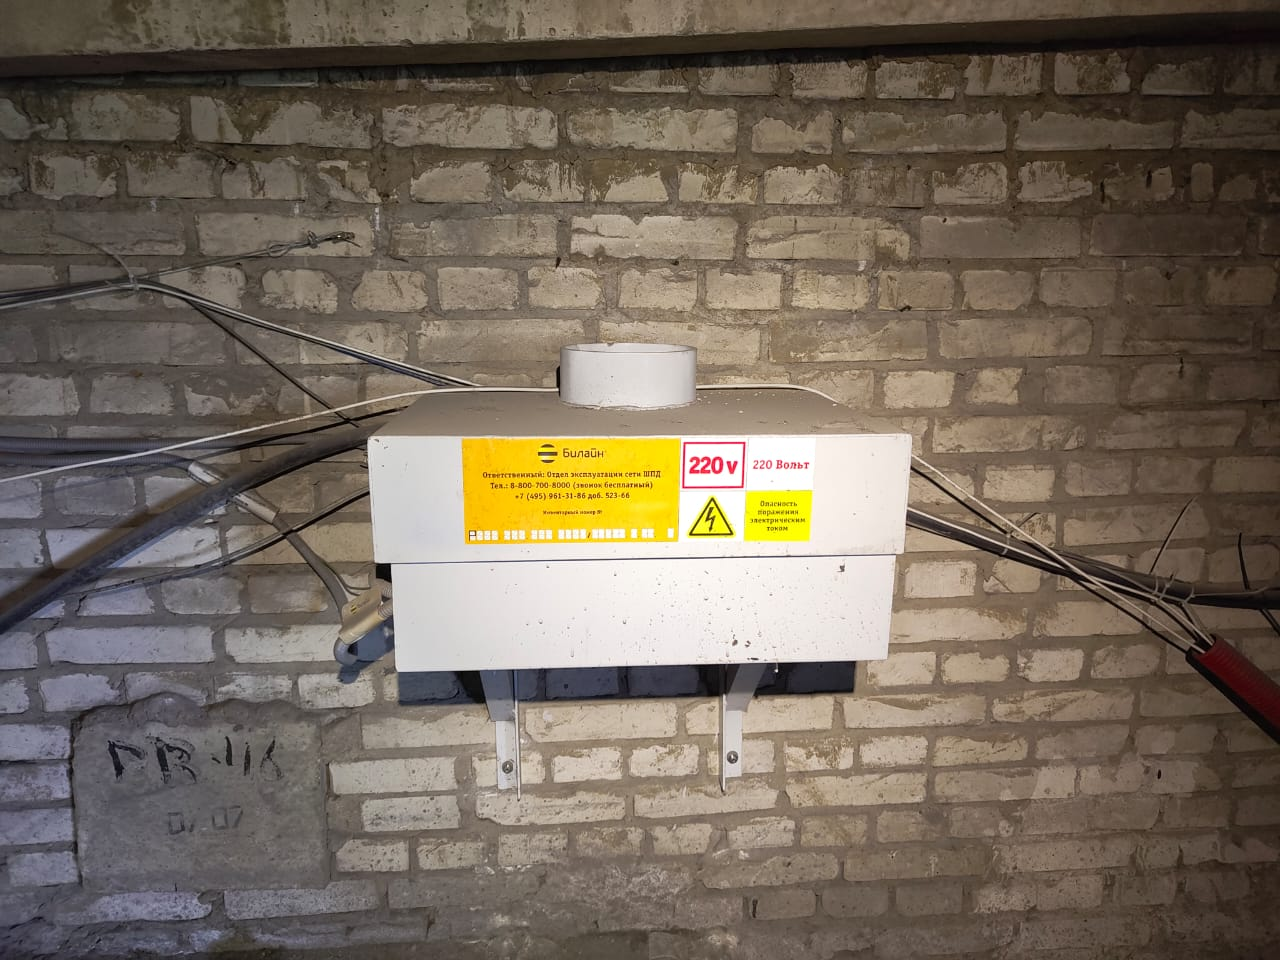shta-ps: (356, 323, 927, 686)
